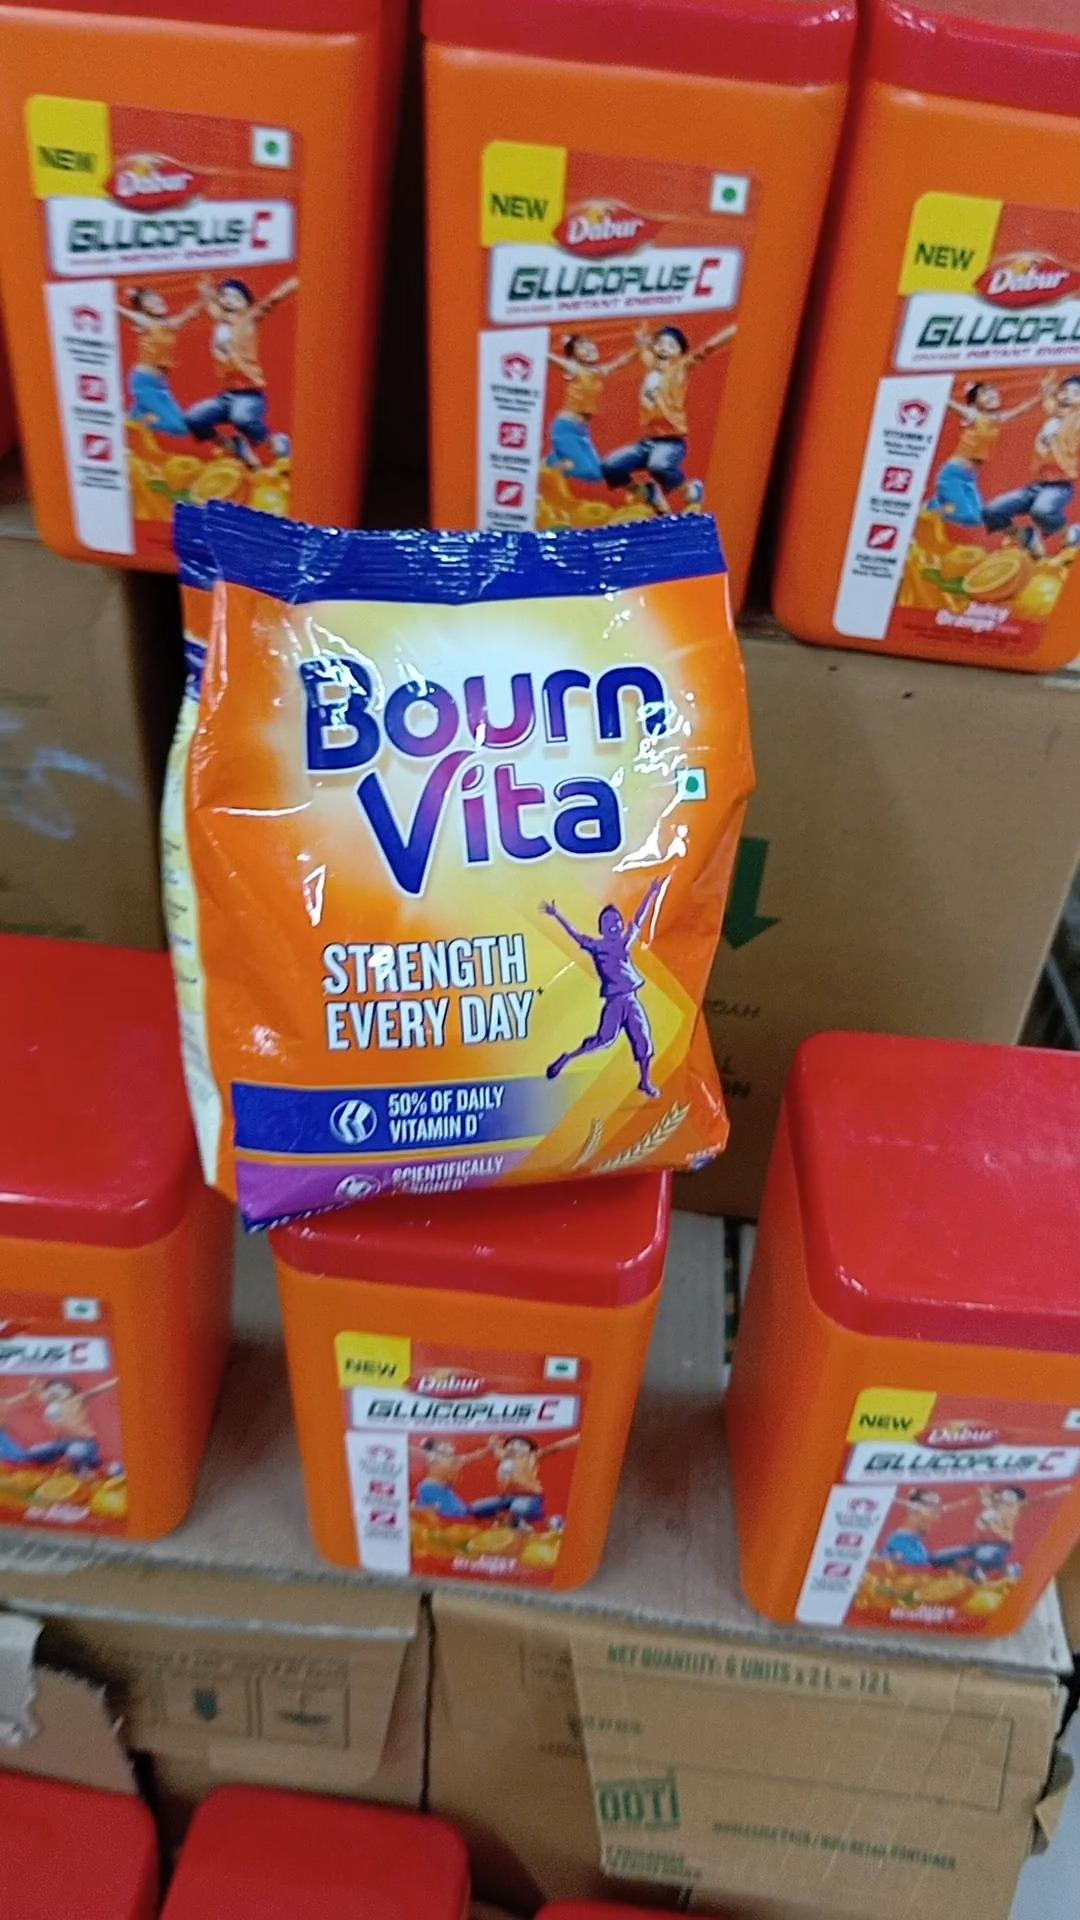BOURN_VITA_500_G_POUCH: (190, 520, 721, 1204)
